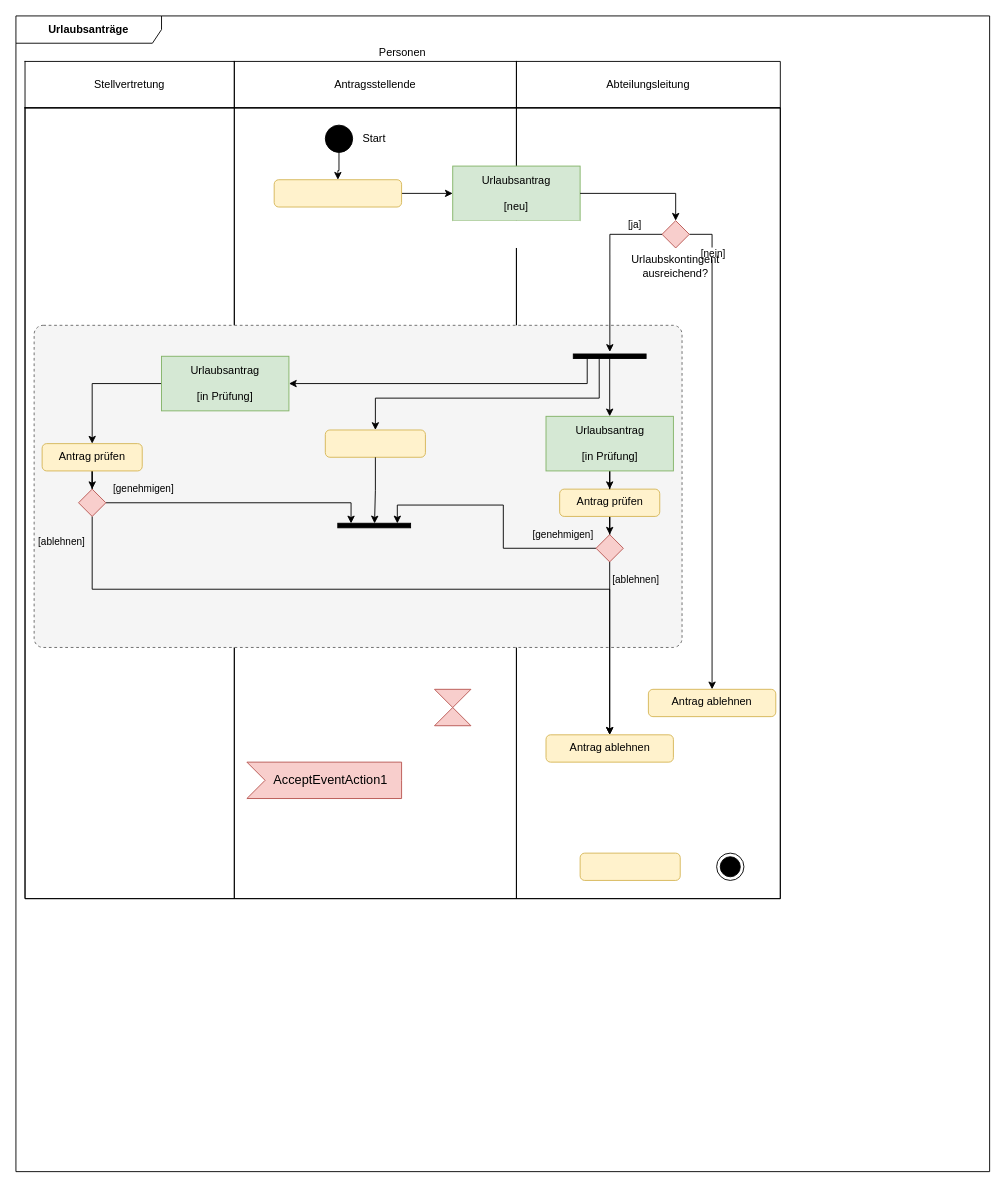
Image size: 1006x1188. Some labels were removed from this diagram. Each missing label, with the centre of its shape:
"Antrag archivieren" goes at point (629, 866).
"Urlaub beantragen" goes at point (337, 193).
"Warten" goes at point (374, 443).
"{bennent Zeitraum und Stellvertretung}" goes at point (516, 234).
